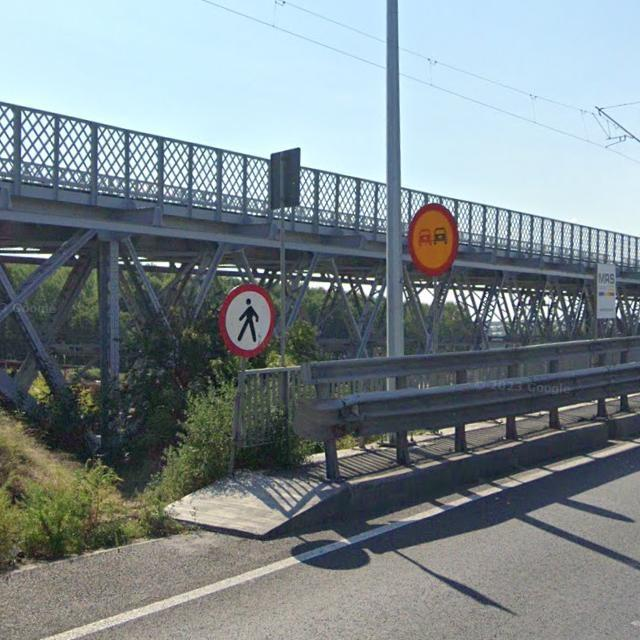forb_overtake: (408, 203, 459, 276)
